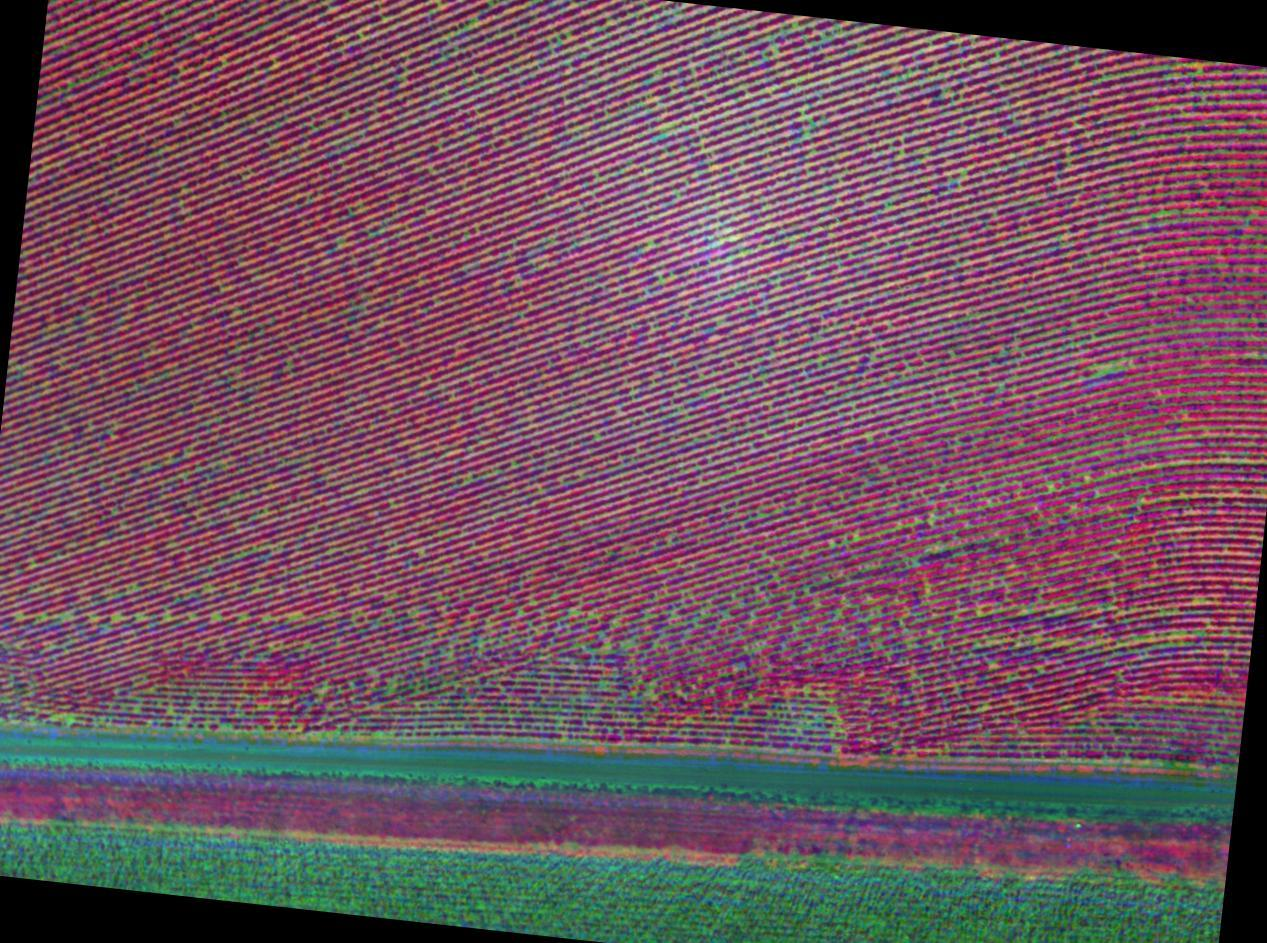dc: (68, 718, 72, 722), (570, 610, 573, 614), (519, 612, 523, 615), (135, 708, 138, 712), (453, 681, 456, 684), (415, 702, 418, 705), (261, 707, 264, 710), (376, 733, 379, 736), (62, 616, 65, 618), (19, 614, 21, 616), (168, 709, 170, 711)
